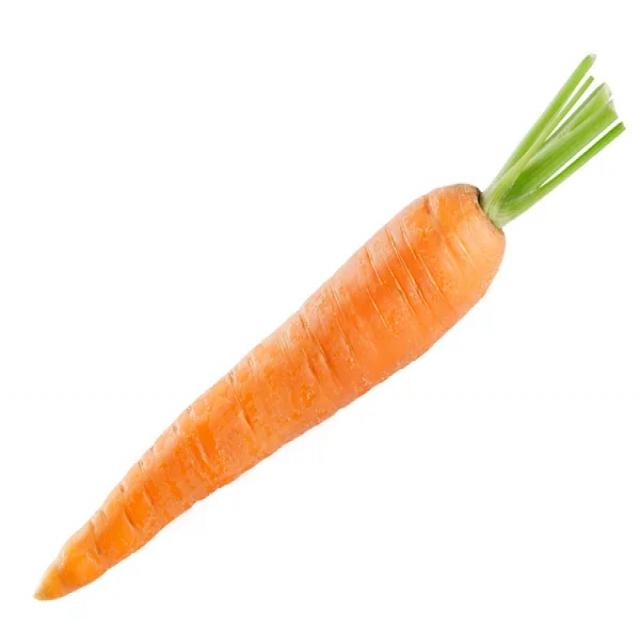Carrot: (42, 58, 623, 602)
